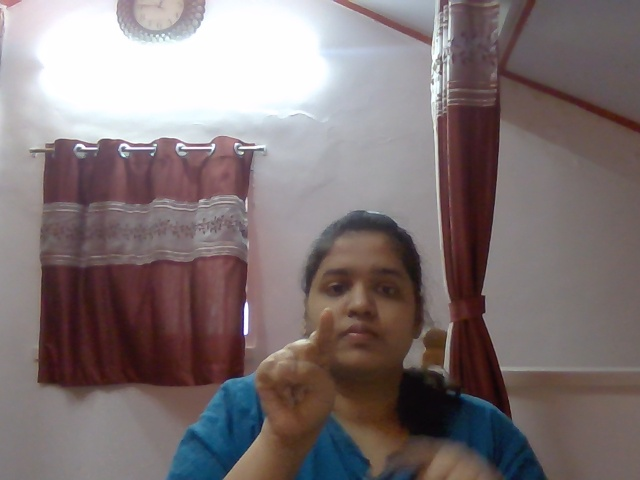z: (243, 310, 361, 455)
